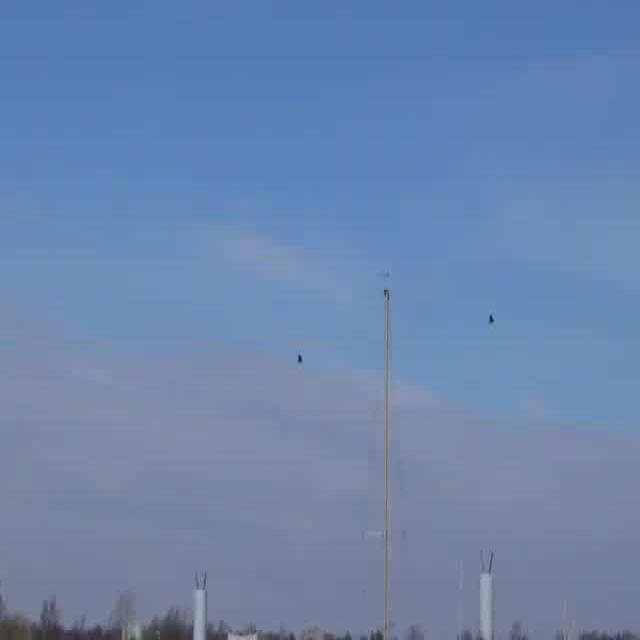bird: (485, 311, 498, 332), (292, 352, 308, 368)
